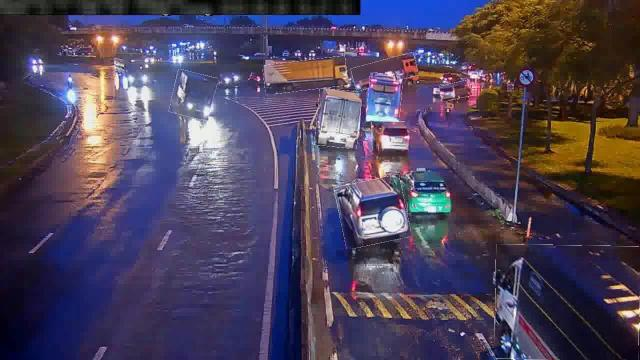Bus: (368, 73, 402, 119)
Car: (337, 178, 409, 246), (372, 122, 410, 150), (440, 82, 472, 100)
Truck: (495, 244, 639, 360), (264, 58, 348, 92), (316, 88, 360, 148), (170, 71, 216, 119), (352, 56, 418, 88)
